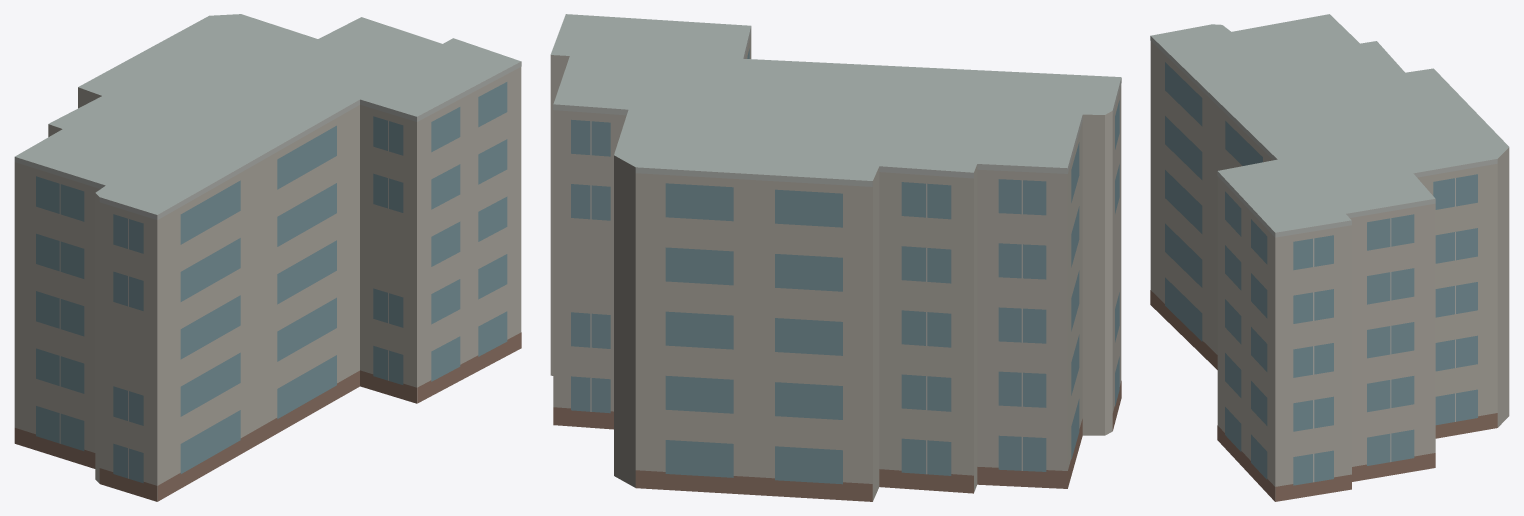
The model's file is survey-upis-32736454.glb.
3 views of the same model, side by side, from view 1: azimuth 30°, elevation 25°; view 2: azimuth 150°, elevation 25°; view 3: azimuth 270°, elevation 25° (orthographic). The views are drawn at different scales.
Parts seen in each view (by area): view 1: survey-upis-32736454.tmp; view 2: survey-upis-32736454.tmp; view 3: survey-upis-32736454.tmp.
Part boxes in pixels (x1=…): survey-upis-32736454.tmp: x1=14, y1=14, x2=521, y2=501; survey-upis-32736454.tmp: x1=550, y1=14, x2=1121, y2=501; survey-upis-32736454.tmp: x1=1150, y1=14, x2=1509, y2=501.
Size of the model in its own units: 23.45 by 13.45 by 16.27.
